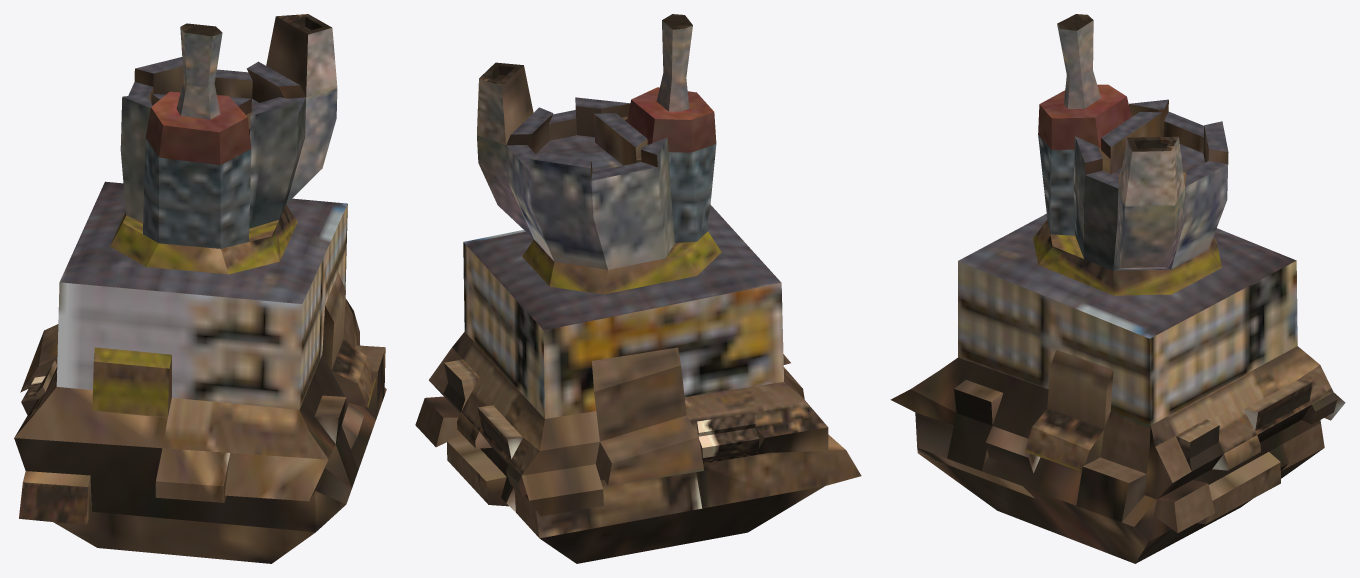
File: Barracks1.fbx
The picture shows the model from 3 angles, left to right: view 1: azimuth 30°, elevation 25°; view 2: azimuth 150°, elevation 25°; view 3: azimuth 270°, elevation 25°; orthographic projection. The views are drawn at different scales.
Visible parts, largest first — view 1: Cube_010.003; view 2: Cube_010.003; view 3: Cube_010.003.
Part boxes in pixels (<box>): Cube_010.003: <box>14,14,386,563</box>; Cube_010.003: <box>415,14,861,563</box>; Cube_010.003: <box>890,14,1345,563</box>.
Size of the model in its own units: 65.03 by 78.2 by 67.07.
